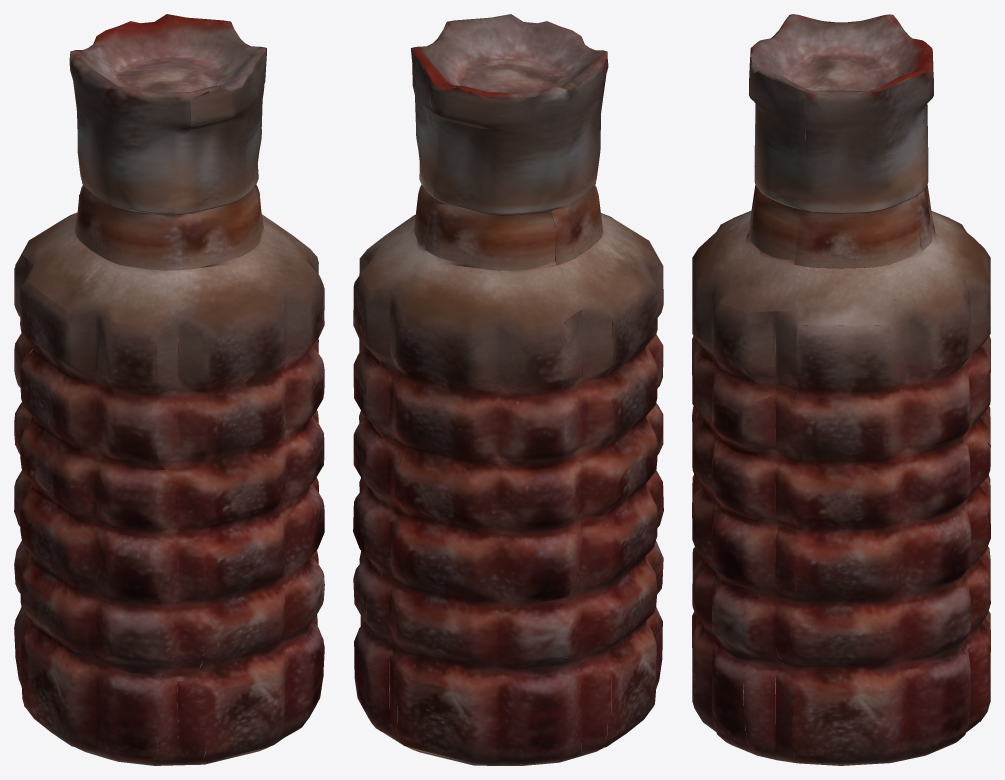
Rendered from bomb4.glb.
3 views of the same model, side by side, from view 1: azimuth 30°, elevation 25°; view 2: azimuth 150°, elevation 25°; view 3: azimuth 270°, elevation 25° (orthographic).
Visible parts, largest first — view 1: material; view 2: material; view 3: material.
Boxes of the visible parts, bbox=[...] form: material: bbox=[14, 14, 324, 765]; material: bbox=[353, 14, 663, 765]; material: bbox=[692, 14, 990, 765].
Bounding box in the file's own units: 0.7622 × 1.9 × 0.7715.
1 material, 1 textured.
